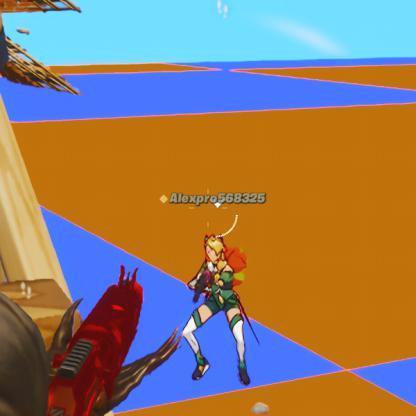person: (188, 232, 249, 382)
